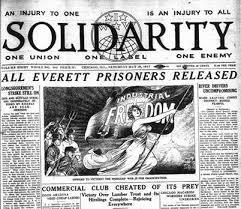Printing industry: (2, 3, 241, 209)
